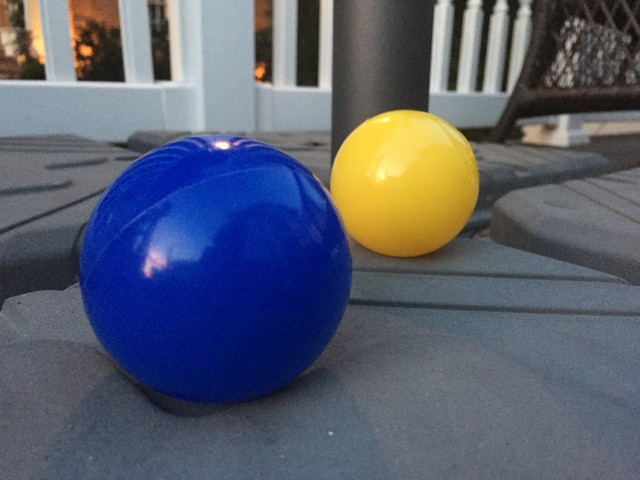Ball: (337, 111, 478, 251)
